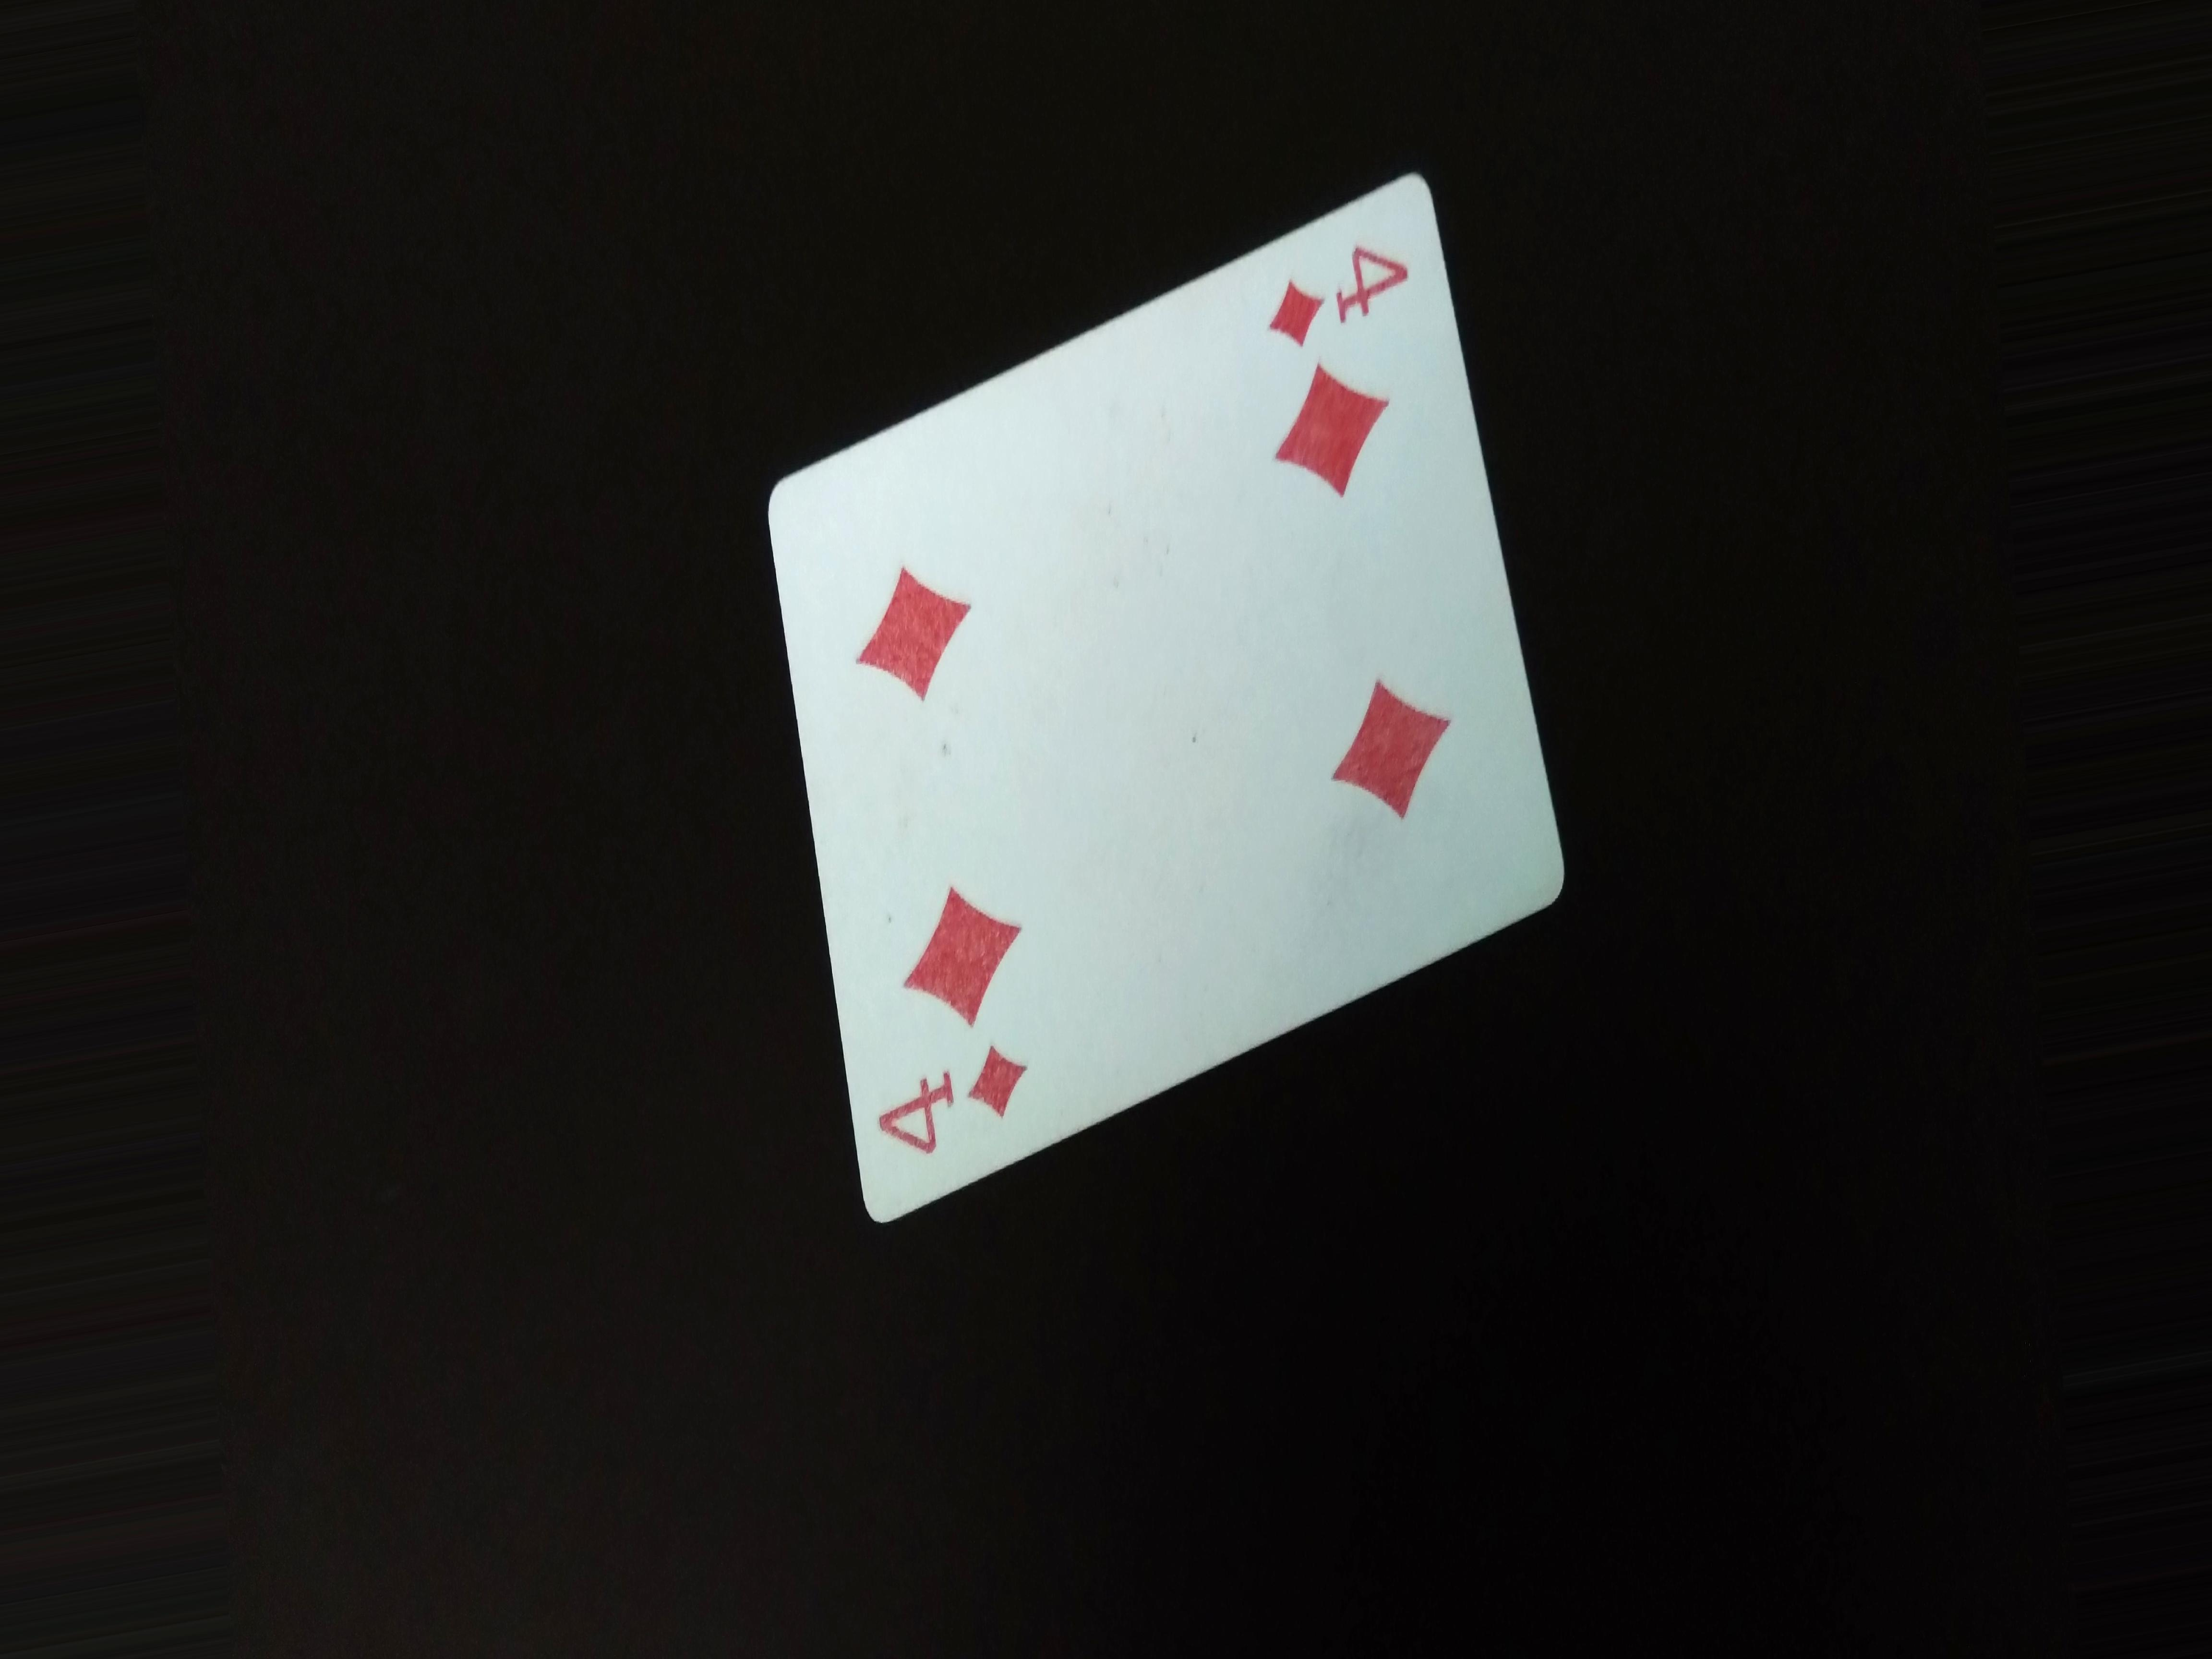4D: (1245, 239, 1430, 355)
